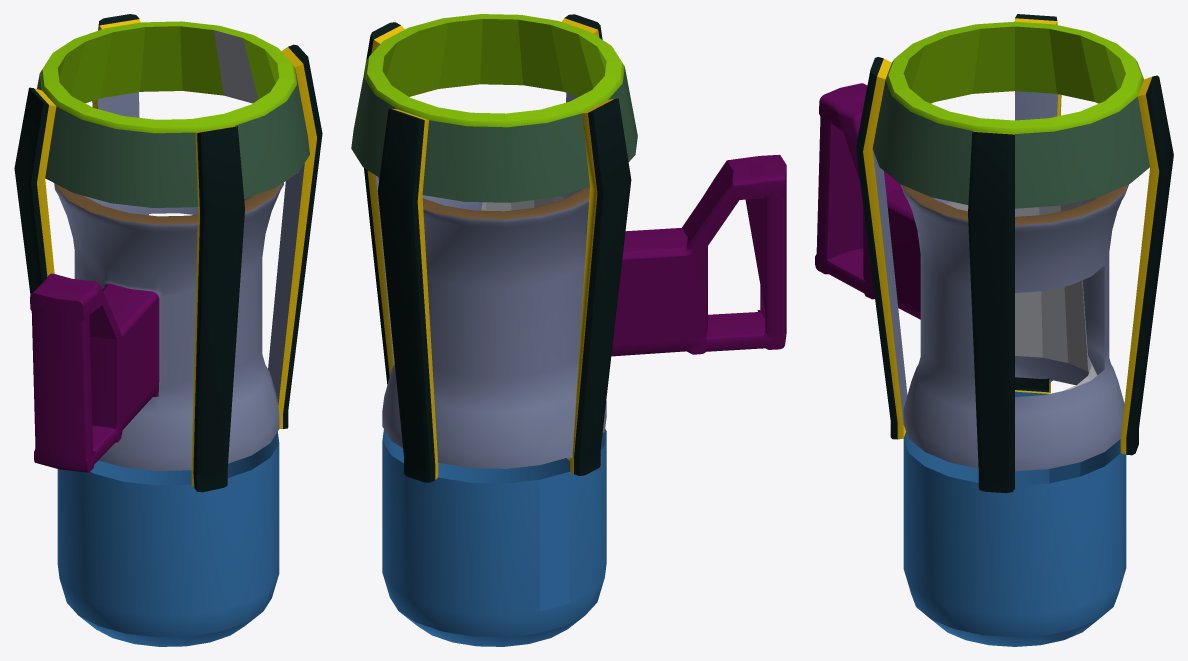
The model's file is Antorcha para substancer.fbx.
The picture shows the model from 3 angles, left to right: view 1: azimuth 30°, elevation 25°; view 2: azimuth 150°, elevation 25°; view 3: azimuth 270°, elevation 25°; orthographic projection.
Visible parts, largest first — view 1: pCylinder1; view 2: pCylinder1; view 3: pCylinder1.
Boxes of the visible parts, x1=… form: pCylinder1: x1=14, y1=14, x2=322, y2=646; pCylinder1: x1=351, y1=14, x2=786, y2=646; pCylinder1: x1=815, y1=14, x2=1173, y2=646.
Bounding box in the file's own units: 2.08 × 3.1 × 1.85.
